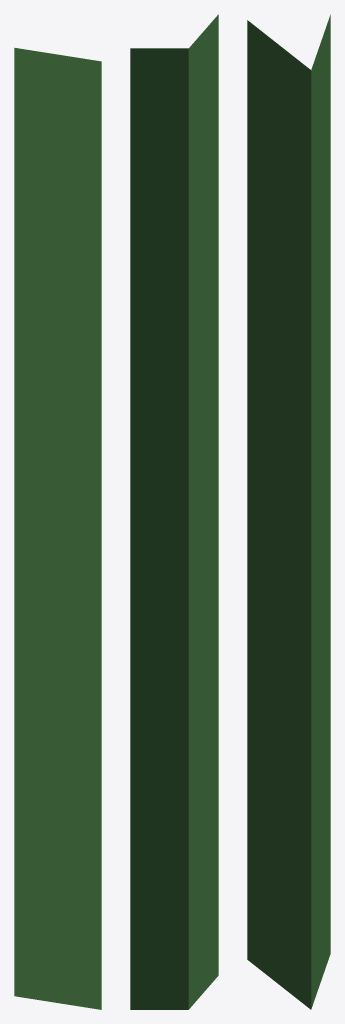
Rendered from stem_3_3.glb.
The picture shows the model from 3 angles, left to right: view 1: azimuth 30°, elevation 25°; view 2: azimuth 210°, elevation 25°; view 3: azimuth 330°, elevation 25°; orthographic projection. The views are drawn at different scales.
Visible parts, largest first — view 1: Icosphere; view 2: Icosphere; view 3: Icosphere.
Part boxes in pixels (left/top/right/bottom): Icosphere: left=14, top=47, right=101, bottom=1009; Icosphere: left=130, top=14, right=218, bottom=1009; Icosphere: left=247, top=14, right=330, bottom=1009.
Bounding box in the file's own units: 0.0166 × 0.2031 × 0.0146.
1 material, 1 textured.
